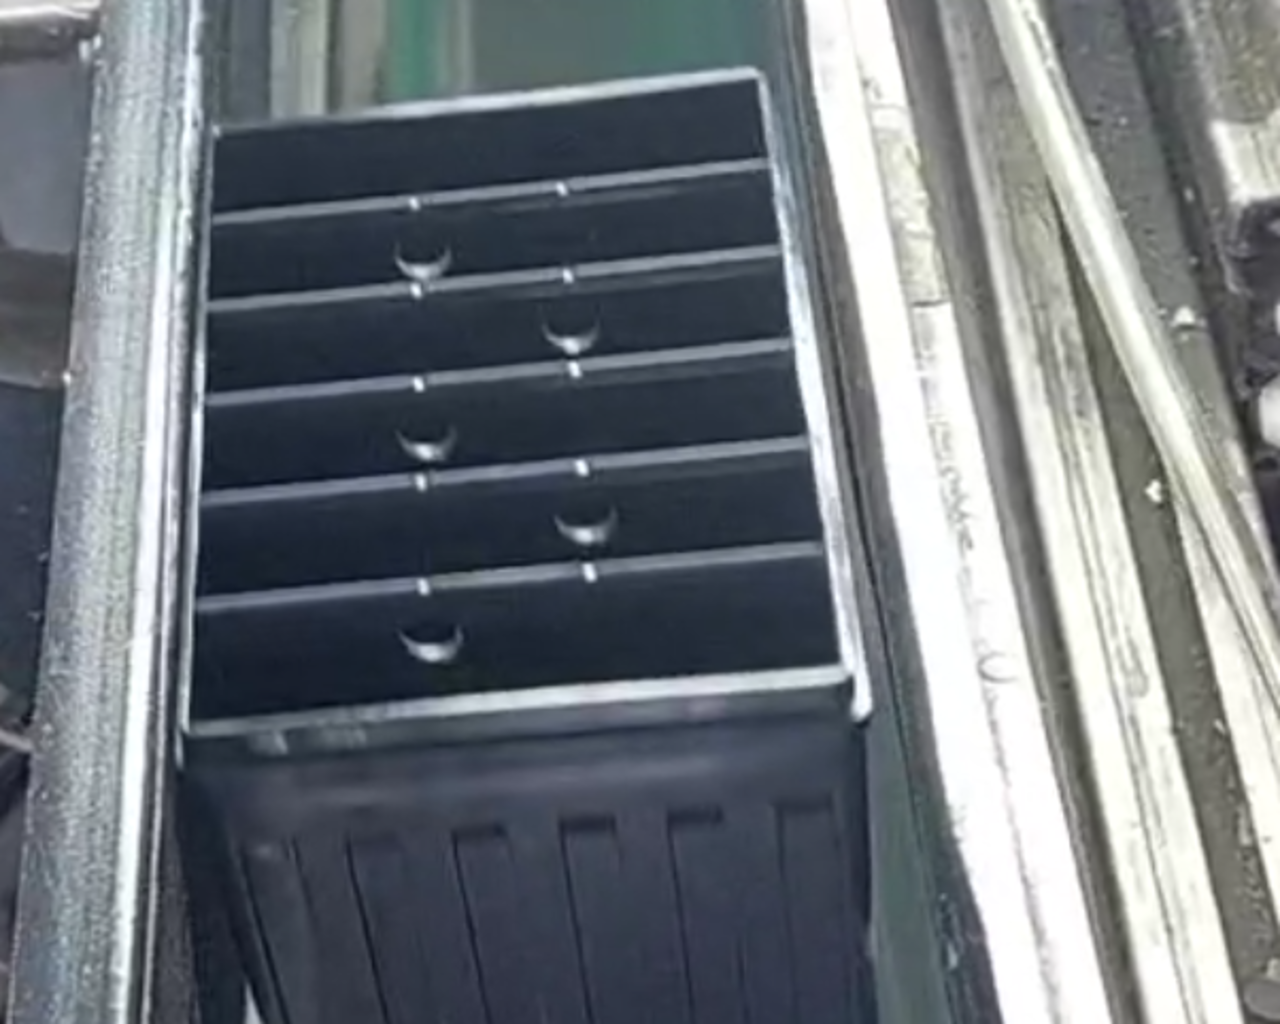box: (131, 41, 916, 759)
round: (371, 596, 487, 674), (527, 476, 643, 553), (520, 280, 619, 369), (370, 213, 468, 297), (372, 394, 478, 471)
